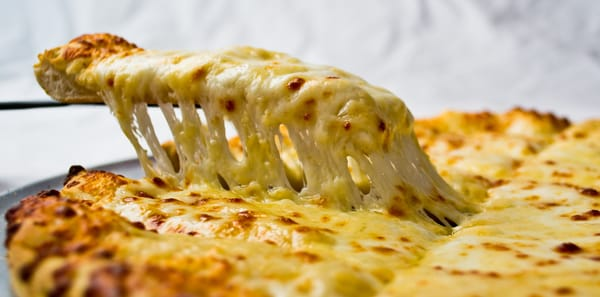sandwich: (27, 38, 477, 240)
